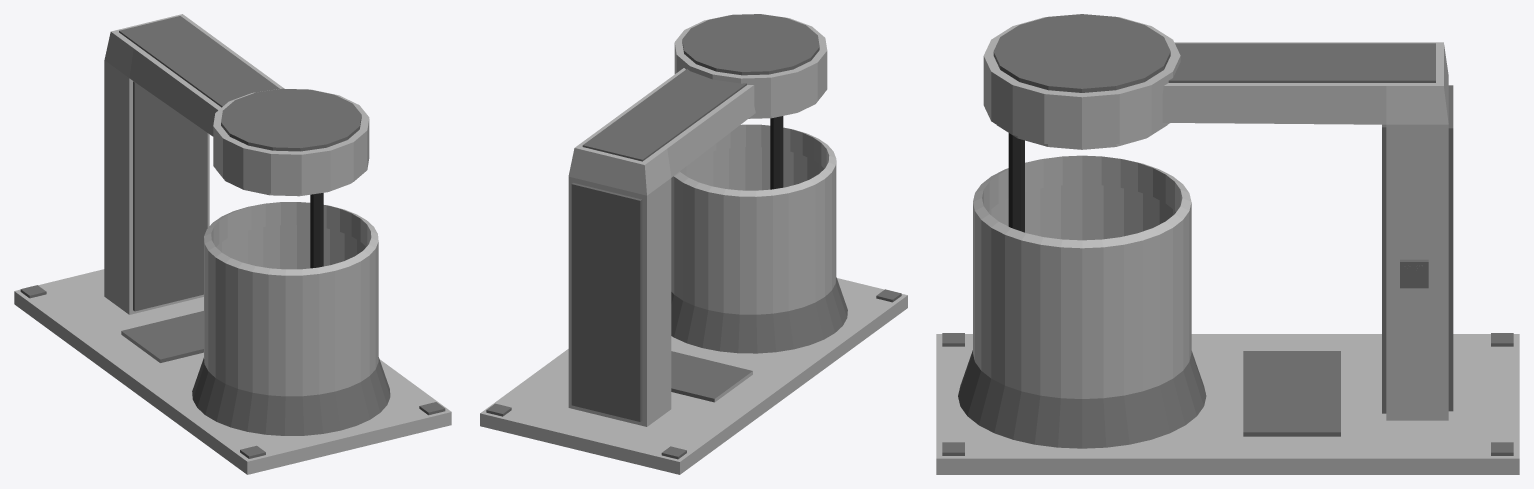
Rendered from mixer-animation.glb.
3 renders of one model, left to right at view 1: azimuth 30°, elevation 25°; view 2: azimuth 150°, elevation 25°; view 3: azimuth 270°, elevation 25°, orthographic. The views are drawn at different scales.
Parts seen in each view (by area): view 1: paintholder, arm, base, head, stick; view 2: arm, paintholder, base, head, stick; view 3: paintholder, base, arm, head, stick.
Boxes of the visible parts, x1,y1,x2,y2 form: paintholder: (192,202,390,435); arm: (104,14,284,314); base: (14,269,451,474); head: (213,88,369,196); stick: (310,193,323,268); arm: (568,68,755,426); paintholder: (671,124,847,353); base: (480,278,907,474); head: (674,14,827,118); stick: (770,116,783,189); paintholder: (958,155,1206,448); base: (936,333,1519,474); arm: (1162,42,1453,420); head: (983,14,1180,149); stick: (1008,133,1024,232).
Size of the model in its own units: 4.05 by 5.47 by 8.
Materials: 1 (1 with a texture image).
